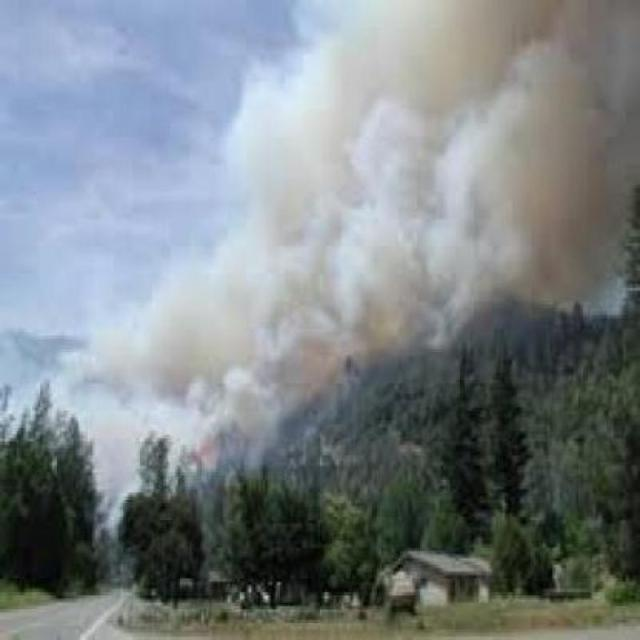Smoke: (384, 188, 616, 344), (210, 288, 387, 424)
